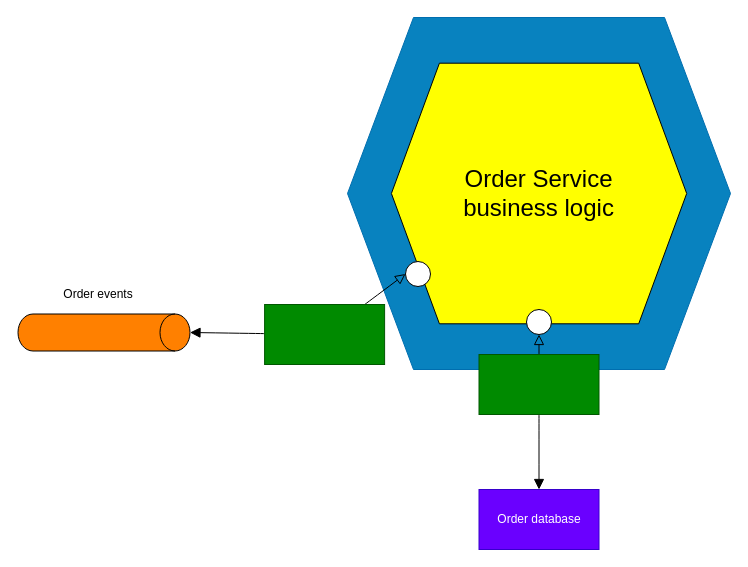
Image size: 748x567. Some labels were removed from this diagram. Each missing label, with the centre of its shape:
"Database adapter" belongs at point (538, 384).
"Domain event publisher adapter" belongs at point (324, 334).
